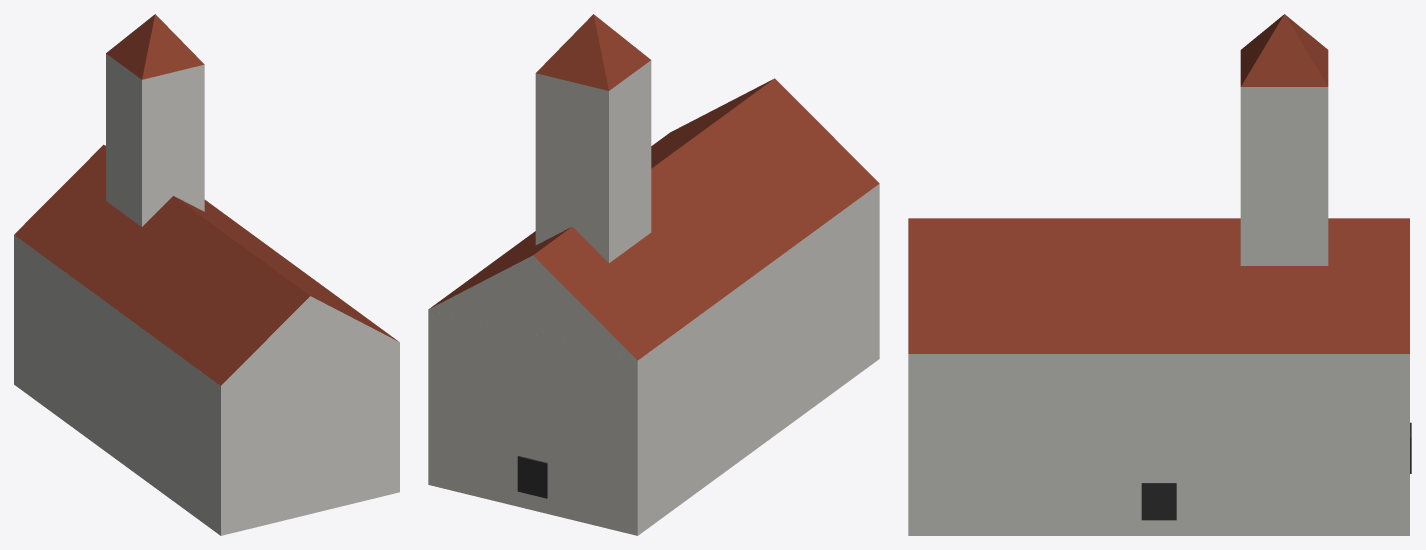
Rendered from church_1.BJ98qGtx.glb.
3 renders of one model, left to right at view 1: azimuth 30°, elevation 25°; view 2: azimuth 150°, elevation 25°; view 3: azimuth 270°, elevation 25°, orthographic. The views are drawn at different scales.
Visible parts, largest first — view 1: base, roof, Cube; view 2: base, roof, Cube, Würfel.001; view 3: base, roof, Cube, Würfel.
Part boxes in pixels (left/top/right/bottom): base: left=14, top=235, right=399, bottom=535; roof: left=14, top=144, right=399, bottom=385; Cube: left=106, top=14, right=204, bottom=226; base: left=428, top=184, right=879, bottom=535; roof: left=428, top=78, right=879, bottom=360; Cube: left=535, top=14, right=651, bottom=262; Würfel.001: left=517, top=456, right=547, bottom=498; base: left=908, top=354, right=1409, bottom=535; roof: left=908, top=218, right=1409, bottom=353; Cube: left=1240, top=14, right=1328, bottom=265; Würfel: left=1141, top=483, right=1176, bottom=520.
Bounding box in the file's own units: 1.01 × 2.06 × 2.01.
